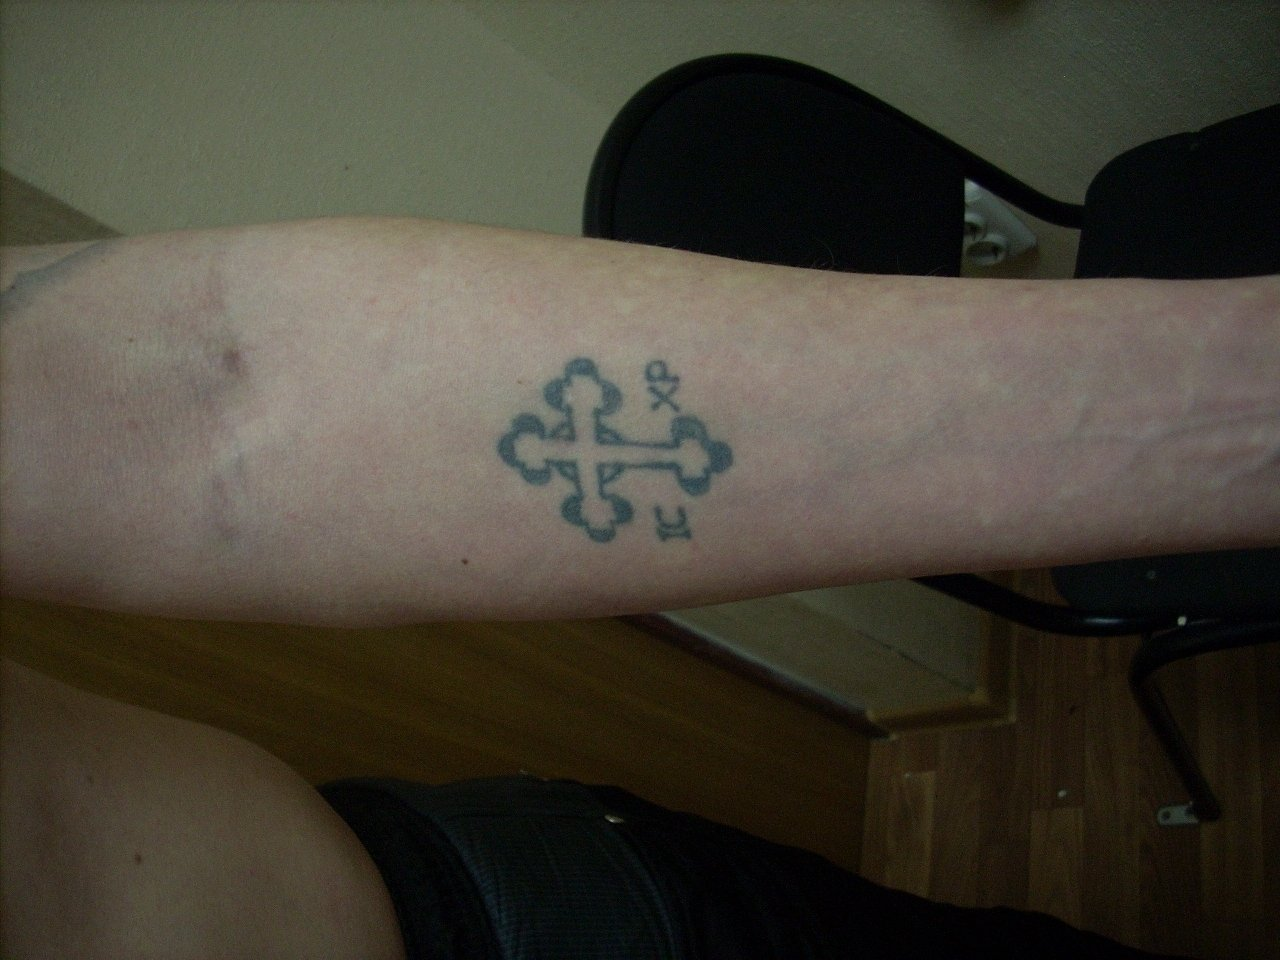tatu9_krest: (460, 346, 737, 519)
